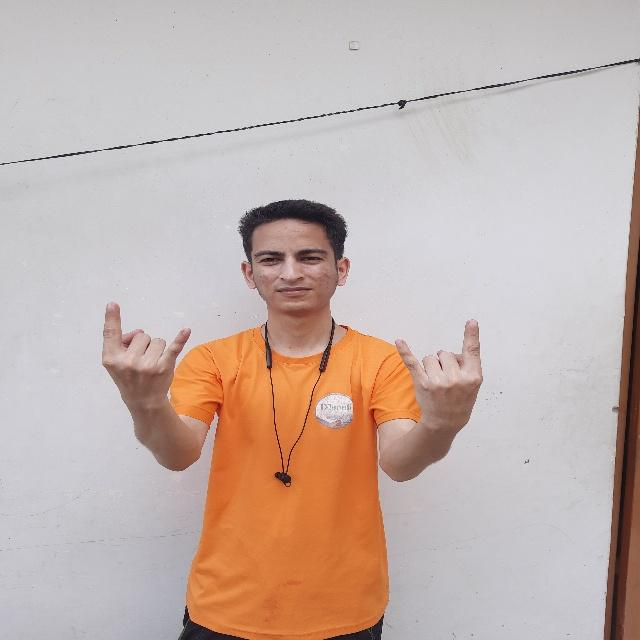Corna: (388, 314, 492, 444), (92, 295, 196, 417)
